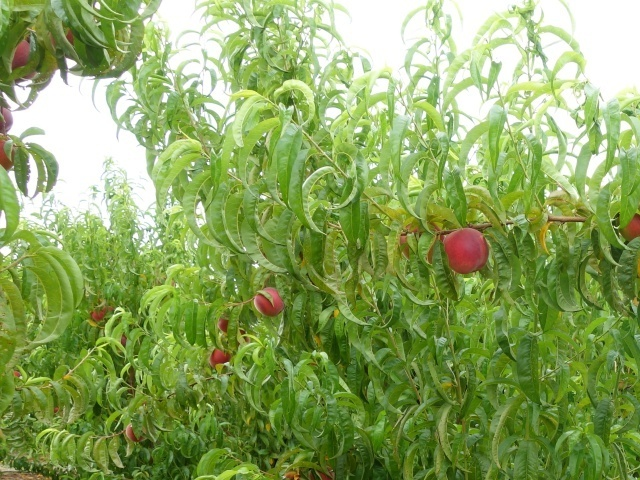peach: (440, 225, 491, 277), (395, 218, 448, 263), (6, 29, 42, 87), (251, 285, 284, 319), (616, 207, 639, 246), (205, 344, 234, 372), (1, 126, 18, 173), (123, 415, 149, 443), (1, 99, 16, 136), (214, 309, 233, 335)
